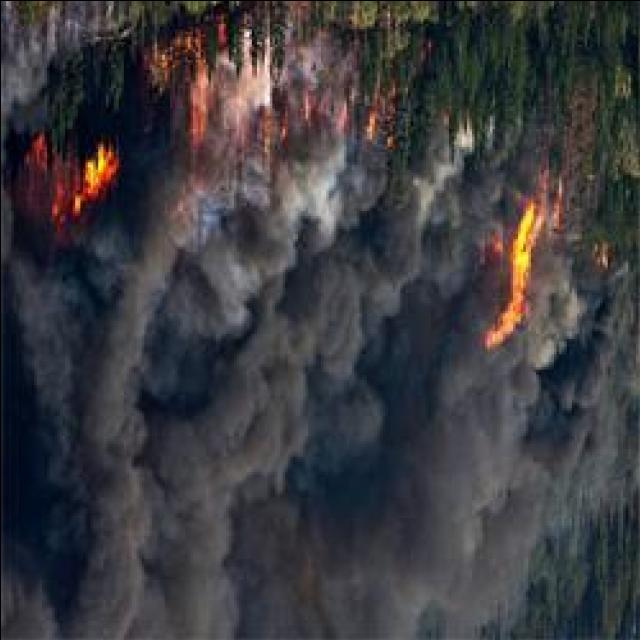fire: (66, 144, 128, 206), (504, 235, 530, 315)
smoke: (5, 274, 186, 636), (207, 155, 386, 501), (424, 362, 639, 568), (401, 158, 491, 288)
